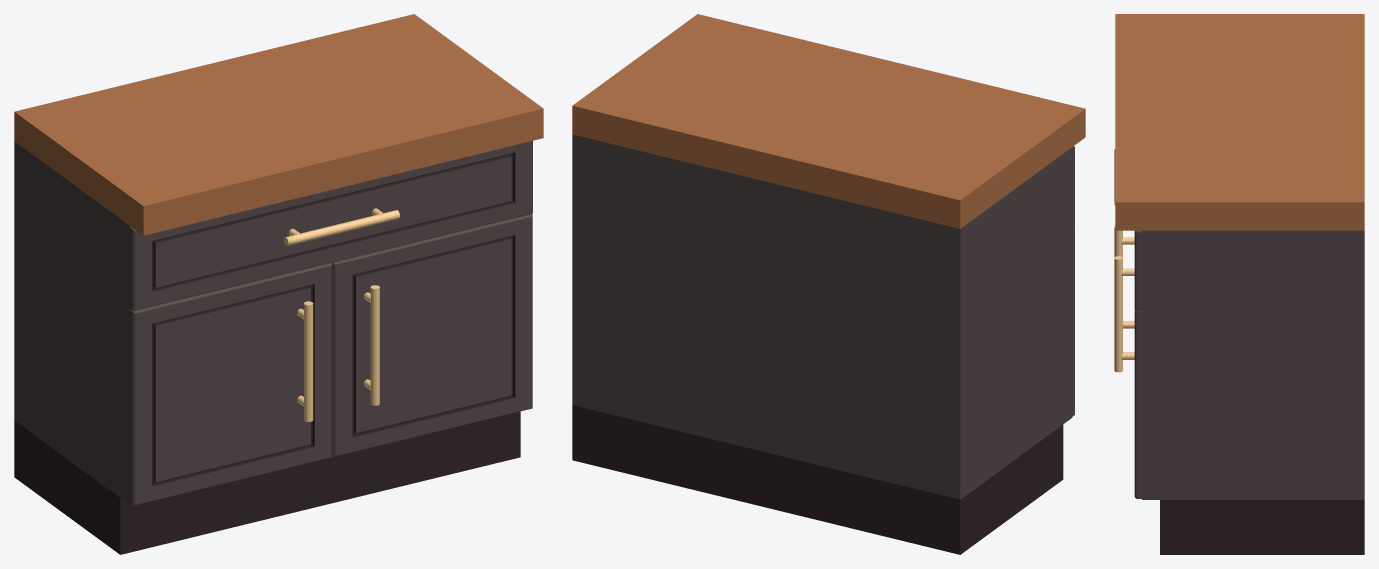
Rendered from Prop_KitchenCabinet_02_I.fbx.
The picture shows the model from 3 angles, left to right: view 1: azimuth 30°, elevation 25°; view 2: azimuth 150°, elevation 25°; view 3: azimuth 270°, elevation 25°; orthographic projection. The views are drawn at different scales.
Parts seen in each view (by area): view 1: Prop_KitchenCabinet_02_I; view 2: Prop_KitchenCabinet_02_I; view 3: Prop_KitchenCabinet_02_I.
Boxes of the visible parts, x1,y1,x2,y2 form: Prop_KitchenCabinet_02_I: (14, 14, 543, 554); Prop_KitchenCabinet_02_I: (572, 14, 1085, 554); Prop_KitchenCabinet_02_I: (1114, 14, 1364, 554).
Size of the model in its own units: 120 by 105 by 67.48.
